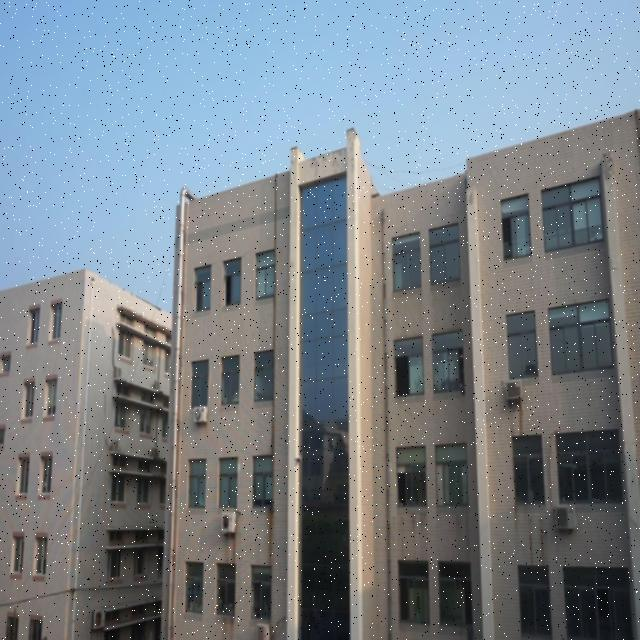UAV: (293, 456, 302, 467)
